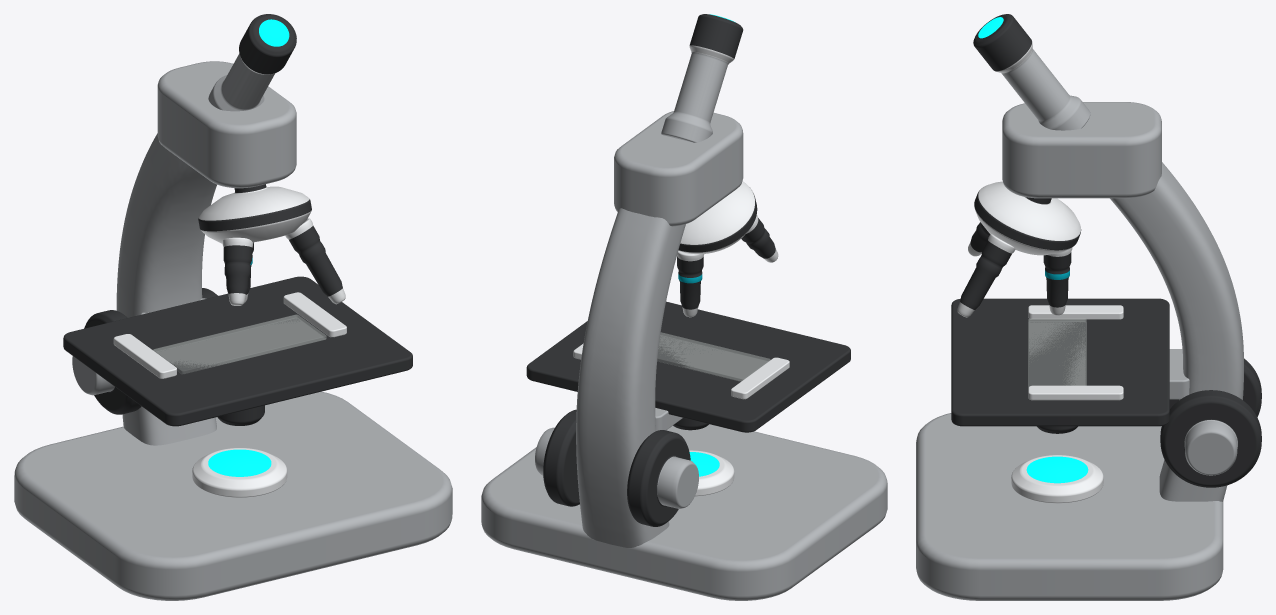
The model's file is microscope.glb.
3 views of the same model, side by side, from view 1: azimuth 30°, elevation 25°; view 2: azimuth 150°, elevation 25°; view 3: azimuth 270°, elevation 25° (orthographic). The views are drawn at different scales.
Visible parts, largest first — view 1: Base, Stage, Arm, Head, Turret, Slide, Eyepiece, Illuminator, Objective3, KnobL, Objective2, Lamp (+4 smaller); view 2: Base, Arm, Stage, Head, Eyepiece, KnobL, Turret, KnobR, Slide, Objective1, ClipL, Illuminator (+1 smaller); view 3: Base, Stage, Arm, Head, KnobR, Eyepiece, Turret, Slide, Illuminator, Objective3, ClipR, Objective1 (+5 smaller).
Part boxes in pixels (x1=…): Base: x1=14, y1=391, x2=452, y2=600; Stage: x1=63, y1=276, x2=412, y2=426; Arm: x1=116, y1=133, x2=216, y2=445; Head: x1=157, y1=61, x2=296, y2=188; Turret: x1=198, y1=184, x2=311, y2=243; Slide: x1=153, y1=314, x2=326, y2=373; Eyepiece: x1=208, y1=14, x2=296, y2=111; Illuminator: x1=192, y1=448, x2=287, y2=497; Objective3: x1=285, y1=218, x2=345, y2=304; KnobL: x1=72, y1=310, x2=141, y2=414; Objective2: x1=222, y1=237, x2=253, y2=305; Lamp: x1=208, y1=449, x2=271, y2=476; Base: x1=481, y1=424, x2=887, y2=600; Arm: x1=576, y1=208, x2=685, y2=547; Stage: x1=526, y1=301, x2=850, y2=432; Head: x1=614, y1=111, x2=743, y2=226; Eyepiece: x1=661, y1=14, x2=743, y2=142; KnobL: x1=627, y1=430, x2=698, y2=526; Turret: x1=678, y1=181, x2=757, y2=254; KnobR: x1=535, y1=409, x2=579, y2=506; Slide: x1=657, y1=332, x2=770, y2=381; Objective1: x1=677, y1=251, x2=704, y2=317; ClipL: x1=731, y1=357, x2=789, y2=399; Illuminator: x1=689, y1=450, x2=734, y2=496; Base: x1=916, y1=413, x2=1223, y2=600; Stage: x1=951, y1=298, x2=1169, y2=426; Arm: x1=1110, y1=162, x2=1243, y2=501; Head: x1=1002, y1=102, x2=1161, y2=198; KnobR: x1=1160, y1=390, x2=1261, y2=487; Eyepiece: x1=973, y1=14, x2=1090, y2=130; Turret: x1=974, y1=181, x2=1081, y2=255; Slide: x1=1028, y1=319, x2=1086, y2=386; Illuminator: x1=1011, y1=455, x2=1103, y2=503; Objective3: x1=957, y1=234, x2=1015, y2=317; ClipR: x1=1028, y1=385, x2=1123, y2=400; Objective1: x1=1043, y1=248, x2=1072, y2=315.
Size of the model in its own units: 2.4 by 3.65 by 2.25.
